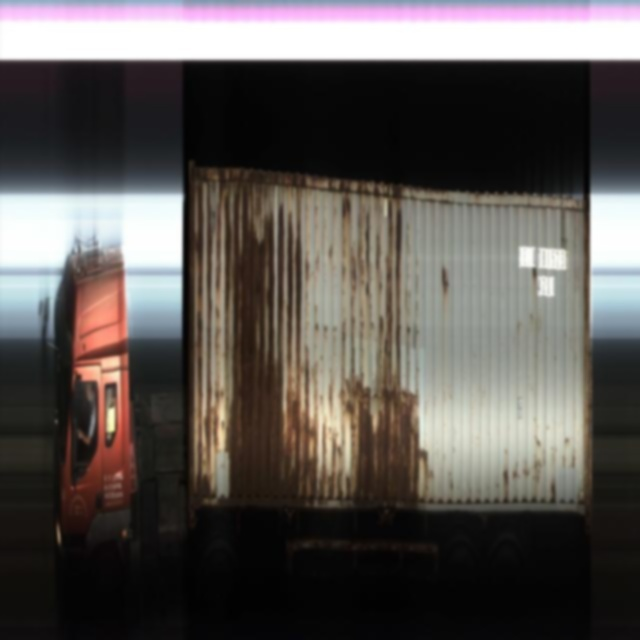Rusty: (227, 180, 310, 508), (349, 379, 427, 507), (312, 413, 346, 505), (584, 195, 594, 497), (206, 182, 215, 479), (388, 200, 403, 360), (197, 181, 204, 505), (190, 175, 196, 499), (216, 337, 226, 454), (439, 257, 453, 323), (534, 426, 547, 489), (352, 253, 358, 375), (217, 189, 223, 298), (366, 208, 372, 304), (344, 184, 353, 245), (503, 454, 510, 499), (552, 455, 557, 509)
